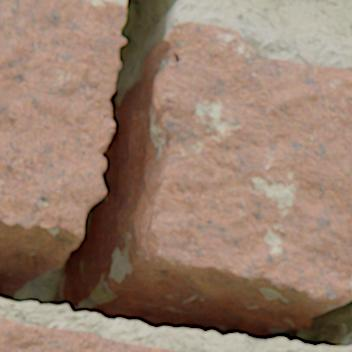brick: (0, 316, 178, 351)
broken_brick: (153, 22, 351, 304), (0, 0, 126, 239)
crack: (0, 0, 351, 350)
